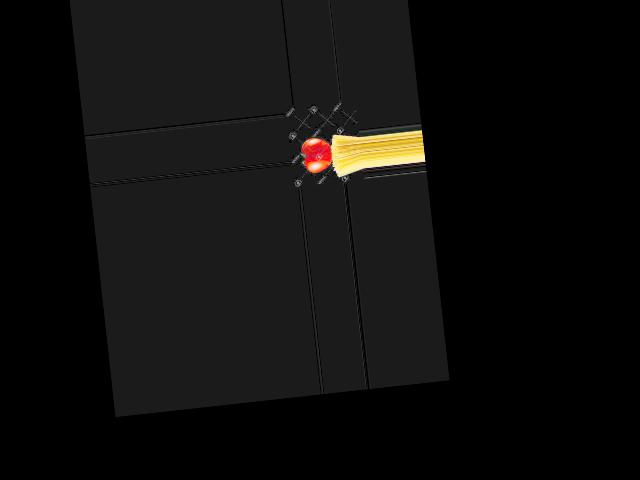tomato: (301, 137, 334, 174)
